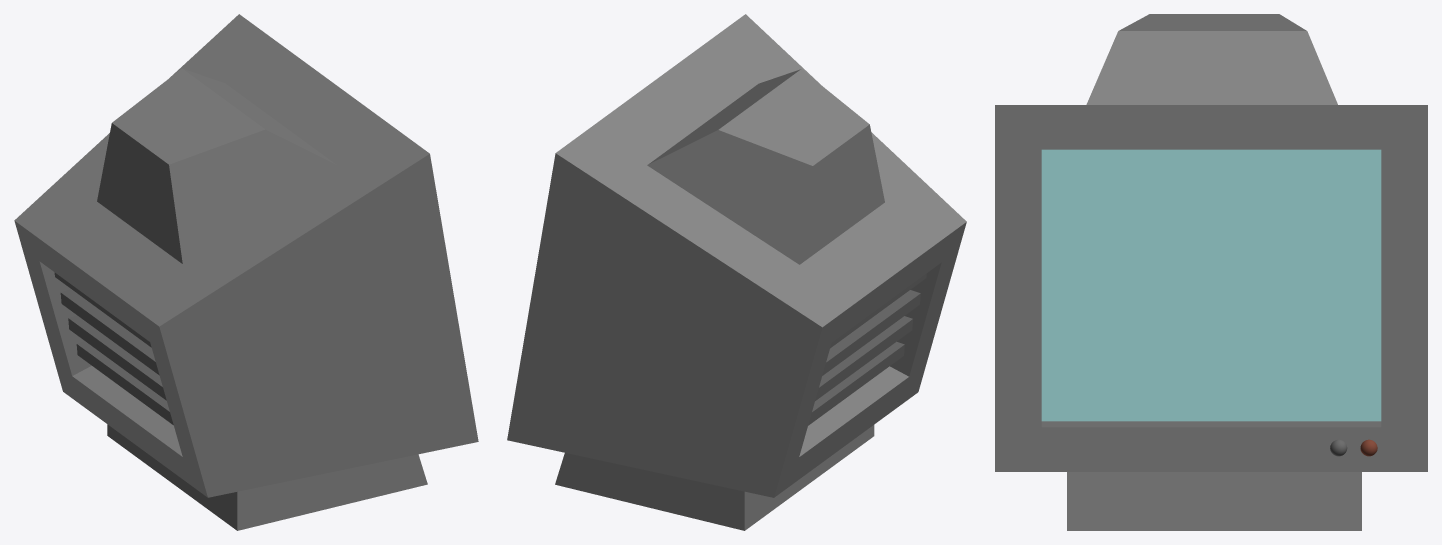
The model's file is Chunky PC.fbx.
3 renders of one model, left to right at view 1: azimuth 30°, elevation 25°; view 2: azimuth 150°, elevation 25°; view 3: azimuth 270°, elevation 25°, orthographic. The views are drawn at different scales.
Parts seen in each view (by area): view 1: pCube1, pCube3, pasted__pCube2 (×2), pCube2; view 2: pCube1, pCube3, pasted__pCube2 (×2), pCube2; view 3: pCube4, pCube1, pCube3.
Part boxes in pixels (x1,y1,x2,y2): pCube1: [14, 14, 478, 497]; pCube3: [107, 424, 427, 530]; pasted__pCube2 (×2): [60, 289, 166, 400]; pCube2: [76, 341, 173, 424]; pCube1: [507, 14, 966, 497]; pCube3: [555, 425, 874, 530]; pasted__pCube2 (×2): [815, 290, 920, 400]; pCube2: [808, 341, 904, 425]; pCube4: [1041, 149, 1381, 421]; pCube1: [995, 14, 1427, 471]; pCube3: [1067, 472, 1361, 530].
Size of the model in its own units: 6.27 by 7.52 by 6.98.
